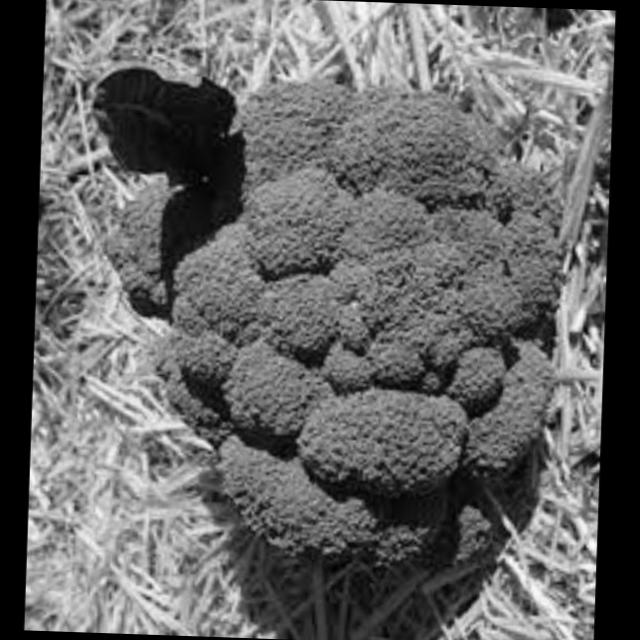broccoli: (83, 61, 574, 586)
